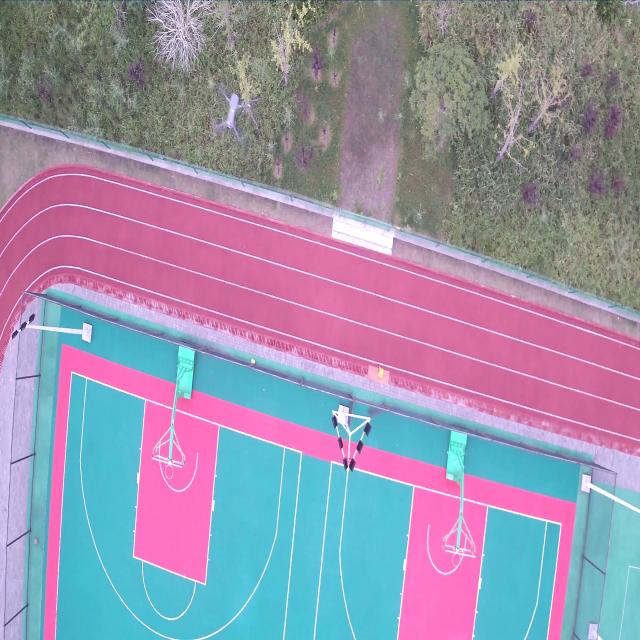UAV: (215, 89, 250, 143)
